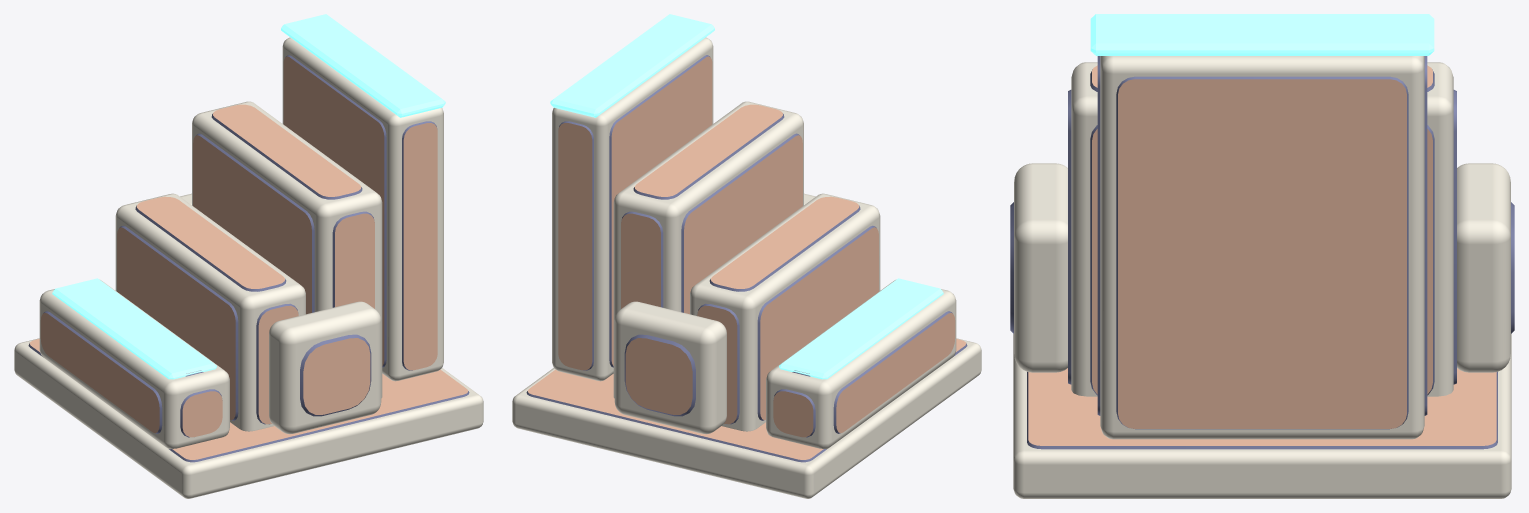
The model's file is R4X_ModuleAmplifier.fbx.
3 renders of one model, left to right at view 1: azimuth 30°, elevation 25°; view 2: azimuth 150°, elevation 25°; view 3: azimuth 270°, elevation 25°, orthographic. The views are drawn at different scales.
Visible parts, largest first — view 1: R4X_ModuleAmplifier_Body; view 2: R4X_ModuleAmplifier_Body; view 3: R4X_ModuleAmplifier_Body.
Part boxes in pixels (x1,y1,x2,y2): R4X_ModuleAmplifier_Body: [14, 14, 483, 498]; R4X_ModuleAmplifier_Body: [512, 14, 981, 498]; R4X_ModuleAmplifier_Body: [1010, 14, 1514, 498].
Size of the model in its own units: 0.514 by 0.5131 by 0.52.
